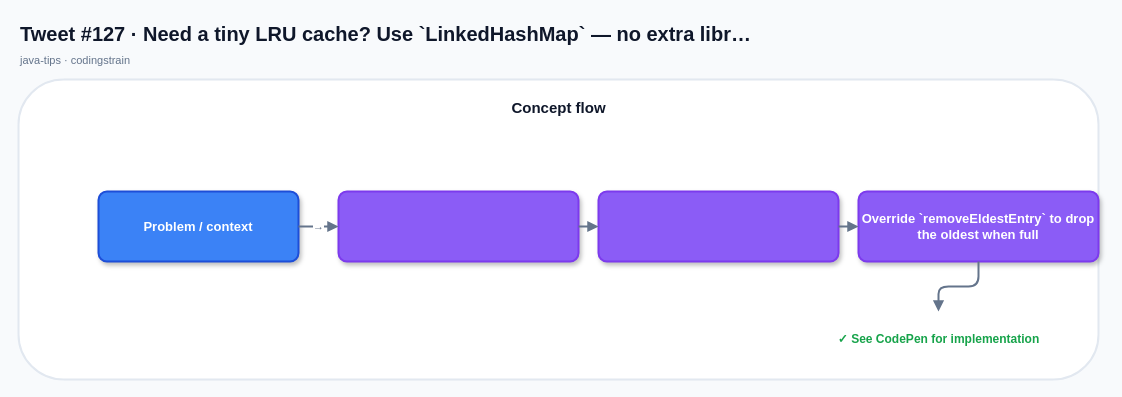
The diagram is 1122 pixels wide and 397 high, and some of its shapes have lost their labels. Here are the shapes that lost their labels. From the top down, the centre of each, then its label:
pixel 459 227: 💡 Need a tiny LRU cache? Use `LinkedHashMap` — no extra library.
pixel 719 227: `accessOrder=true` moves entries to the end on each get
